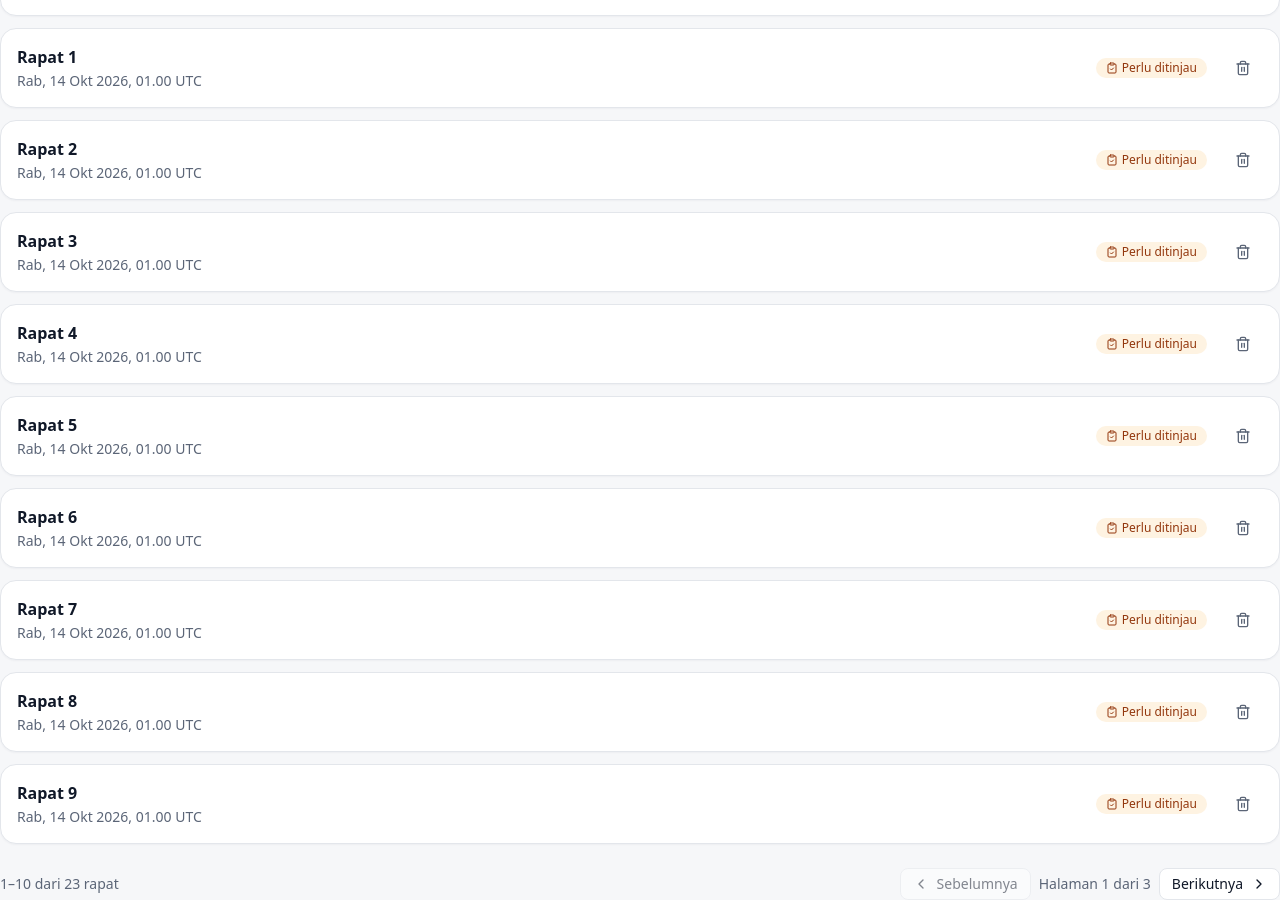
MeetingsPage › shows the newest ten and pages through the rest with previous / next and a page count
The image size is (1280, 900).
(page scrolled)
Check: the text "Rapat 9" is shown, box [17,782,77,804]
Check: the text "Rapat 10" is not shown
Click the button "Berikutnya" at (1219, 884), box [1159,868,1279,899]
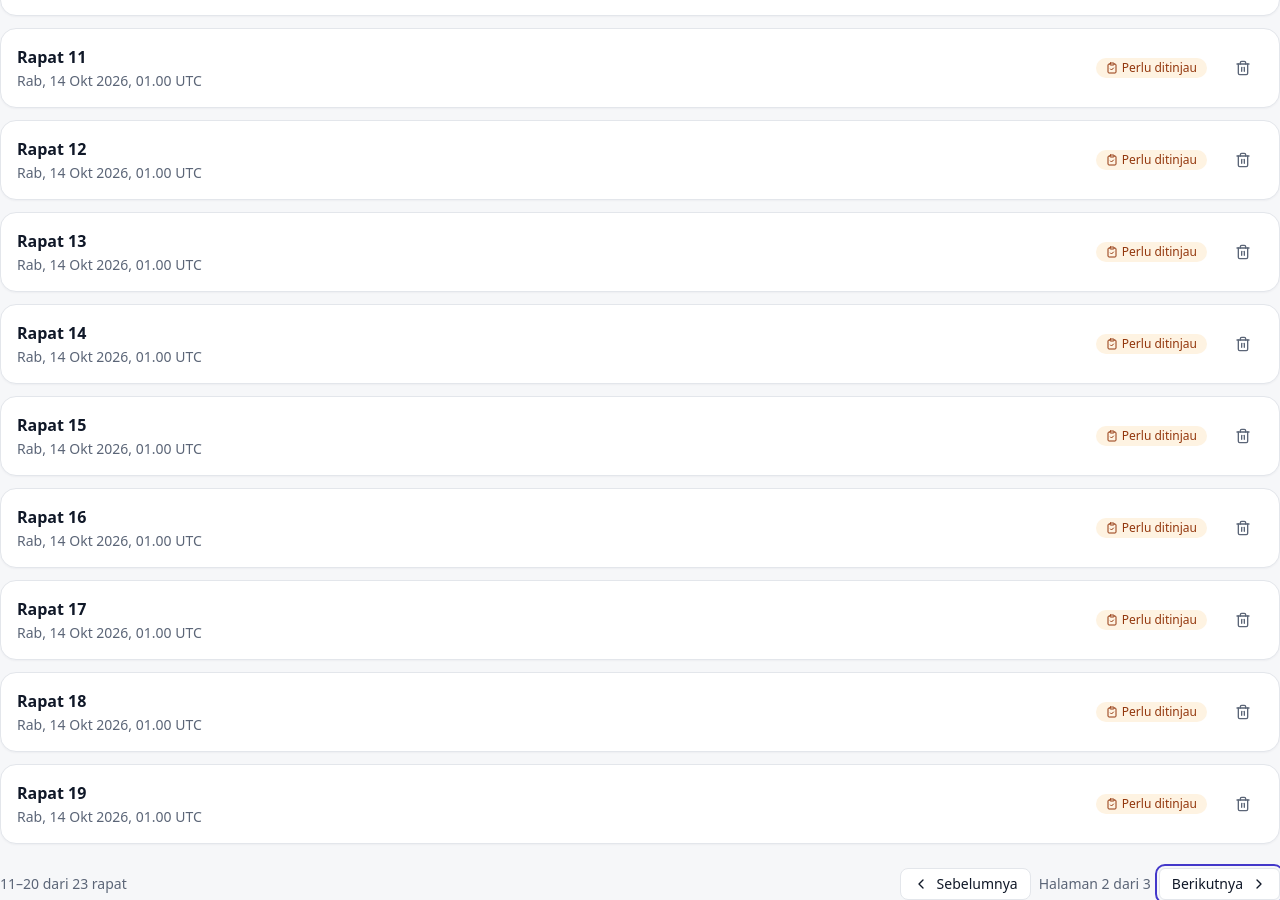
Check: the text "Halaman 2 dari 3" is shown, box [1039,874,1151,894]
Click the button "Berikutnya" at (1219, 884), box [1159,868,1279,899]
(page scrolled)
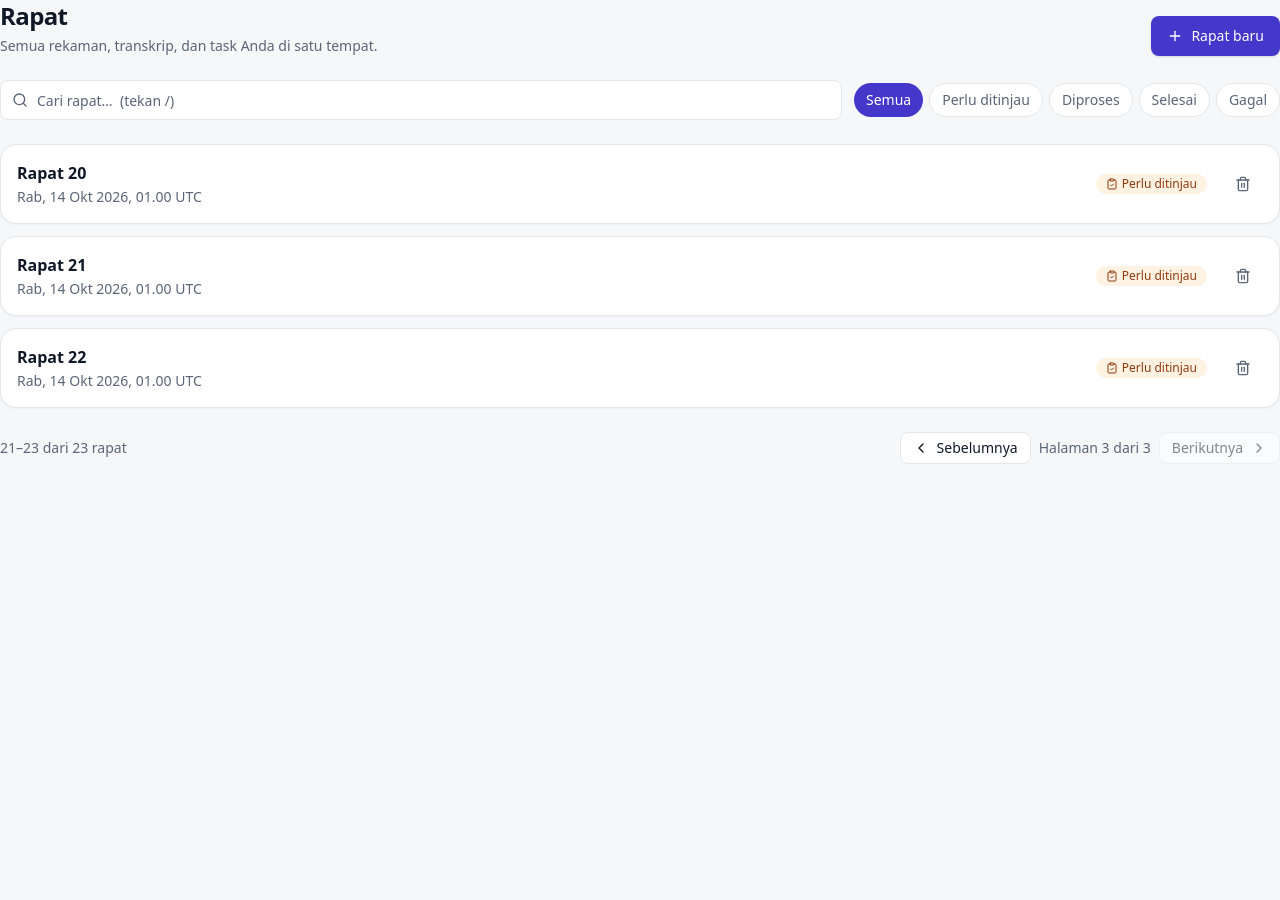
Check: the text "Rapat 22" is shown, box [17,346,86,368]
Check: the text "21–23 dari 23 rapat" is shown, box [0,438,127,458]
Check: the button "Berikutnya" is disabled, box [1159,432,1279,464]
Click the button "Sebelumnya" at (965, 448), box [900,432,1031,464]
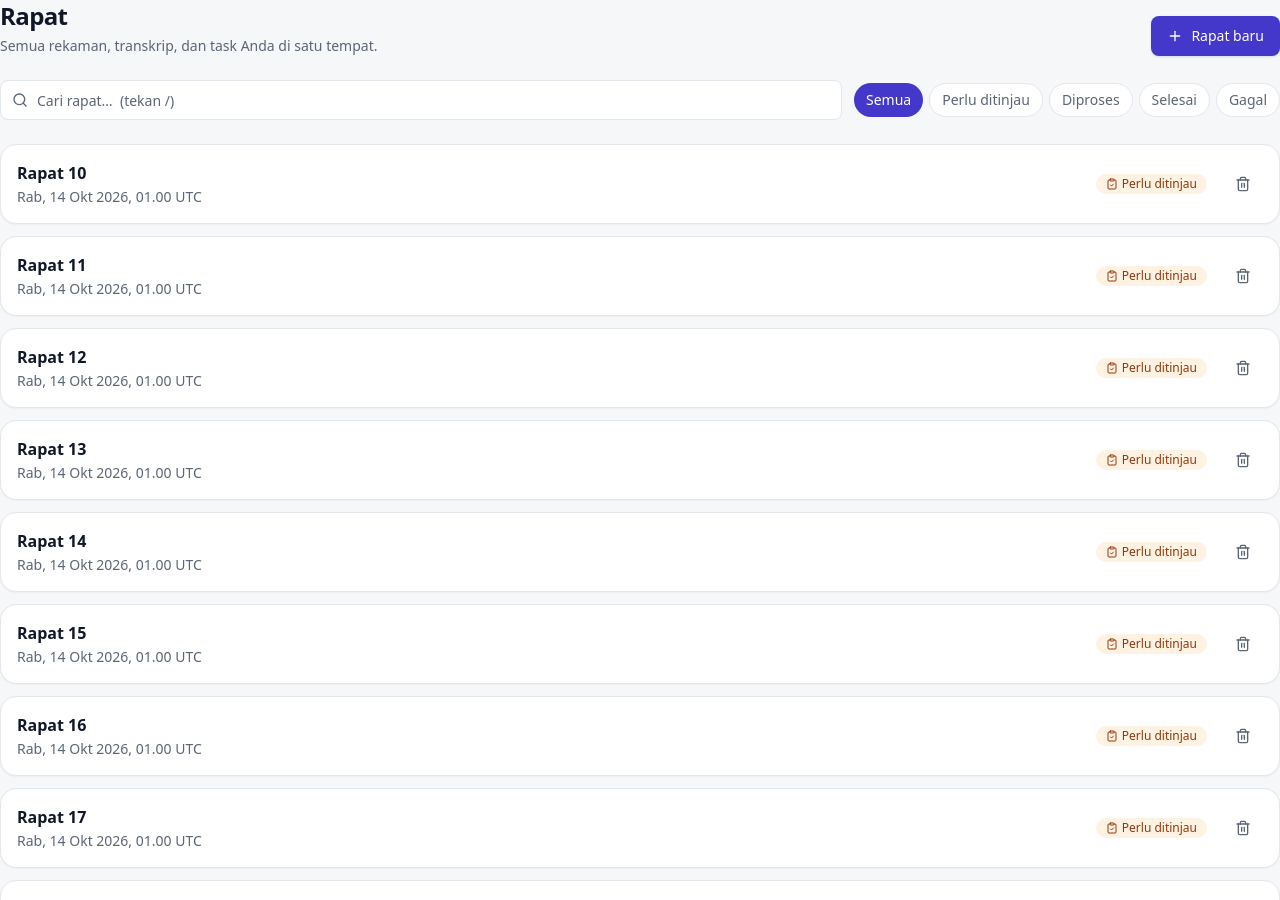
Check: the text "Rapat 10" is shown, box [17,162,86,184]
